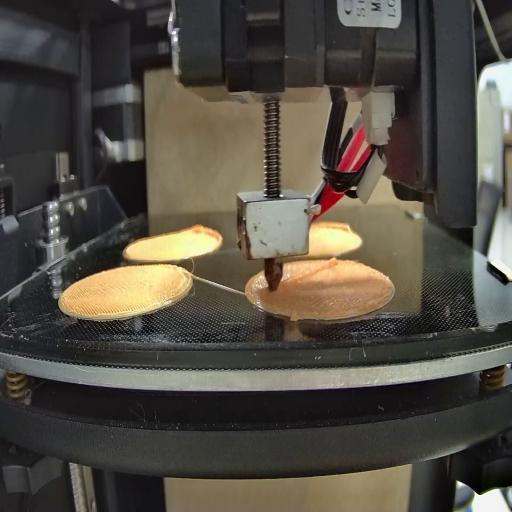over_extrusion: (280, 255, 338, 288), (187, 222, 226, 254), (318, 218, 353, 238)
